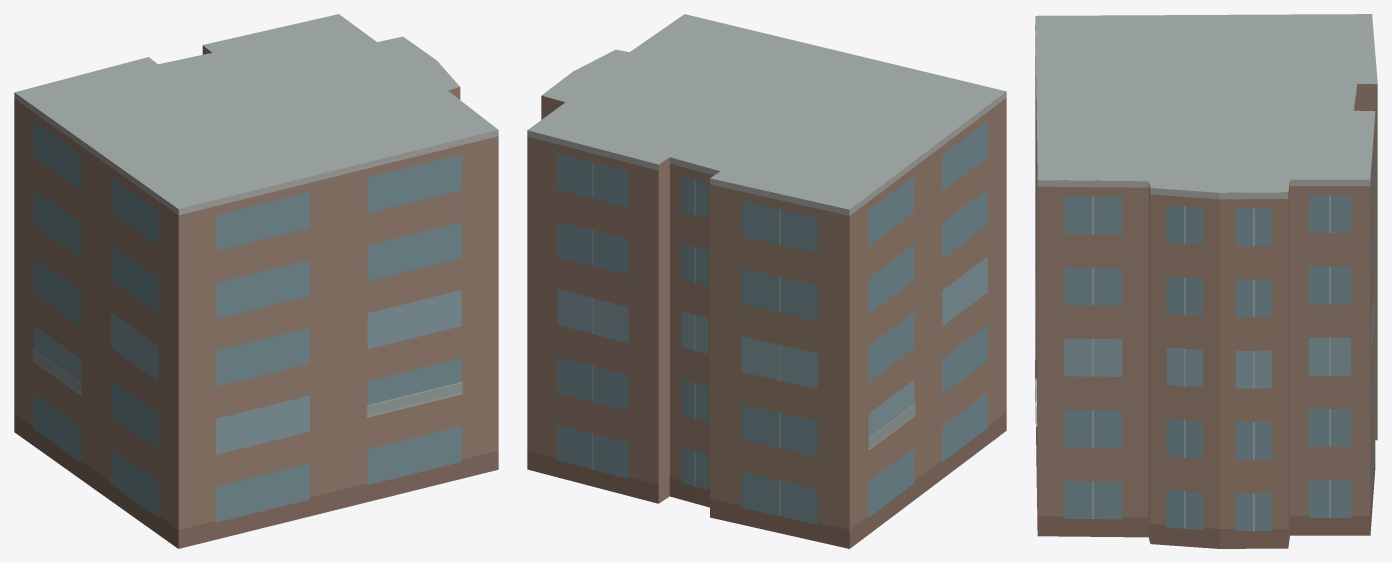
The model's file is survey-upis-32741296.glb.
The picture shows the model from 3 angles, left to right: view 1: azimuth 30°, elevation 25°; view 2: azimuth 150°, elevation 25°; view 3: azimuth 270°, elevation 25°; orthographic projection. The views are drawn at different scales.
Parts seen in each view (by area): view 1: survey-upis-32741296.tmp; view 2: survey-upis-32741296.tmp; view 3: survey-upis-32741296.tmp.
Boxes of the visible parts, left/top/right/bottom form: survey-upis-32741296.tmp: left=14, top=14, right=498, bottom=548; survey-upis-32741296.tmp: left=527, top=14, right=1006, bottom=548; survey-upis-32741296.tmp: left=1035, top=14, right=1377, bottom=548.
Size of the model in its own units: 14.46 by 13.4 by 11.7.
